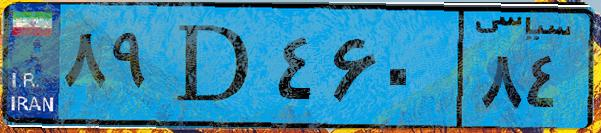0: (385, 28, 445, 110)
4: (270, 28, 330, 110), (525, 38, 570, 115)
6: (330, 28, 385, 110)
8: (57, 26, 110, 100), (475, 38, 525, 113)
9: (110, 28, 158, 98)
D: (158, 12, 270, 120)
